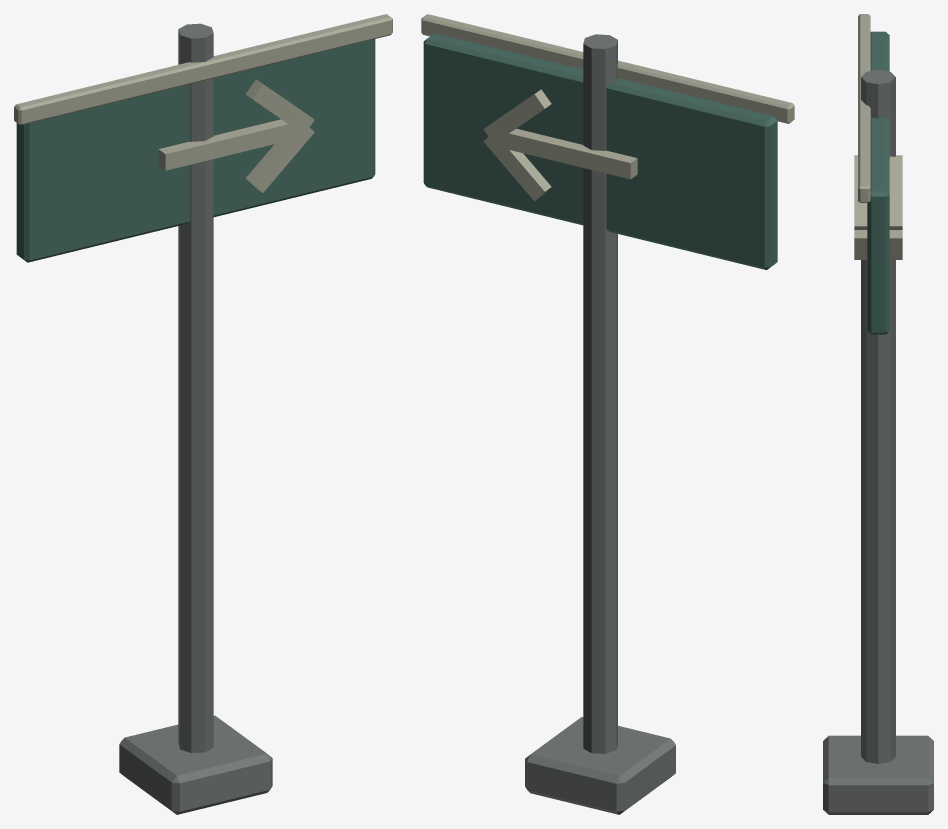
File: sign.glb
3 views of the same model, side by side, from view 1: azimuth 30°, elevation 25°; view 2: azimuth 150°, elevation 25°; view 3: azimuth 270°, elevation 25° (orthographic). The views are drawn at different scales.
Parts seen in each view (by area): view 1: sign; view 2: sign; view 3: sign.
Boxes of the visible parts, left/top/right/bottom form: sign: left=14, top=14, right=392, bottom=814; sign: left=421, top=14, right=794, bottom=814; sign: left=823, top=14, right=933, bottom=814.
Bounding box in the file's own units: 1.3 × 2.5 × 0.35.
